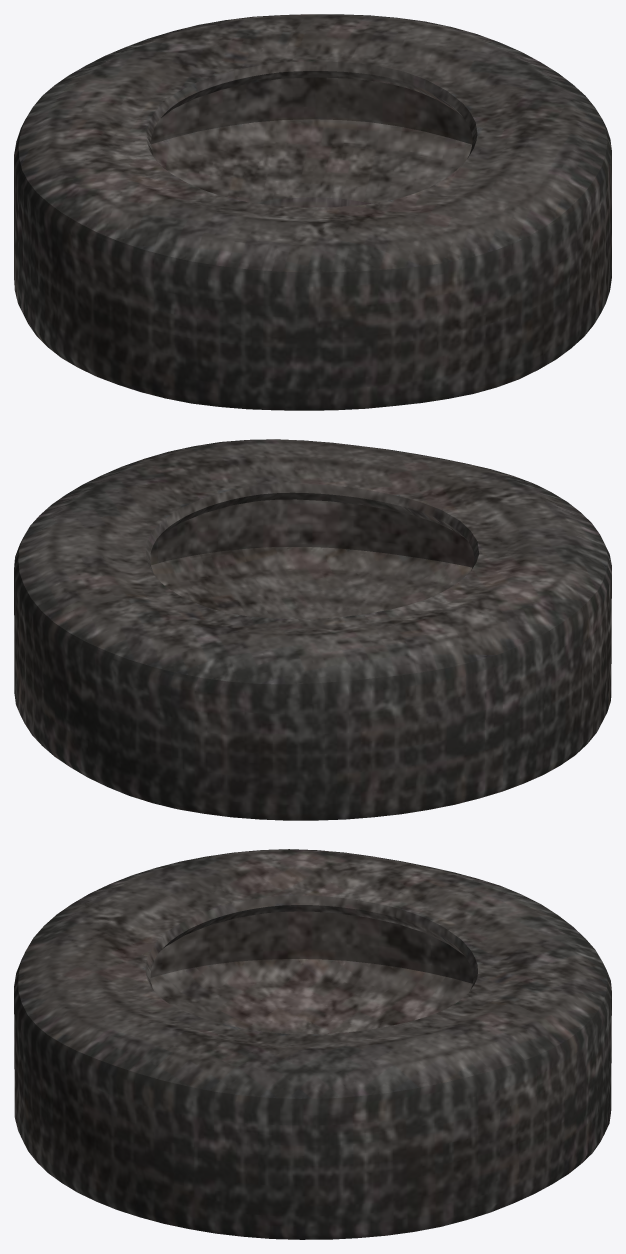
Rendered from dirty_tire_02.glb.
The picture shows the model from 3 angles, top to bottom: view 1: azimuth 30°, elevation 25°; view 2: azimuth 150°, elevation 25°; view 3: azimuth 270°, elevation 25°; orthographic projection. The views are drawn at different scales.
Parts seen in each view (by area): view 1: dirty_tire_02; view 2: dirty_tire_02; view 3: dirty_tire_02.
Part boxes in pixels (x1,y1,x2,y2): dirty_tire_02: (14,14,611,410); dirty_tire_02: (14,439,611,820); dirty_tire_02: (14,849,611,1239).
Size of what is drawn, in the model's own units: 0.6178 by 0.2022 by 0.62.
1 material, 1 textured.
